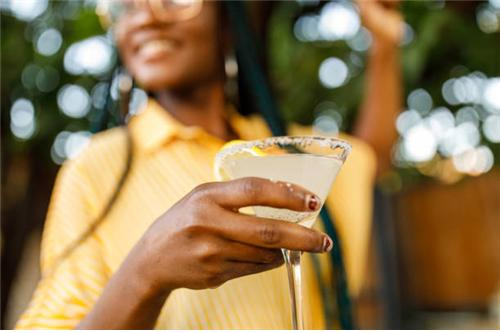alcohol: (213, 135, 351, 327)
